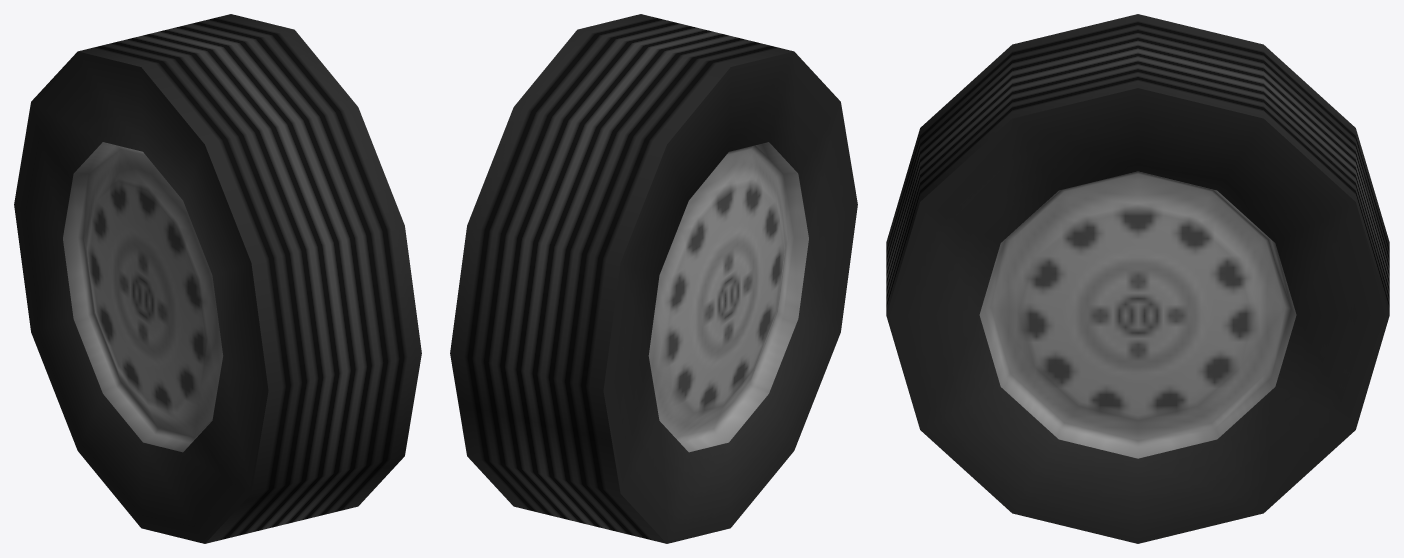
The model's file is DxiCovetWheel.fbx.
3 renders of one model, left to right at view 1: azimuth 30°, elevation 25°; view 2: azimuth 150°, elevation 25°; view 3: azimuth 270°, elevation 25°, orthographic.
Visible parts, largest first — view 1: WheelCovetA; view 2: WheelCovetA; view 3: WheelCovetA.
Boxes of the visible parts, left/top/right/bottom form: WheelCovetA: left=14, top=14, right=421, bottom=543; WheelCovetA: left=450, top=14, right=857, bottom=543; WheelCovetA: left=886, top=14, right=1389, bottom=543.
Size of the model in its own units: 0.2177 by 0.6253 by 0.6253.
